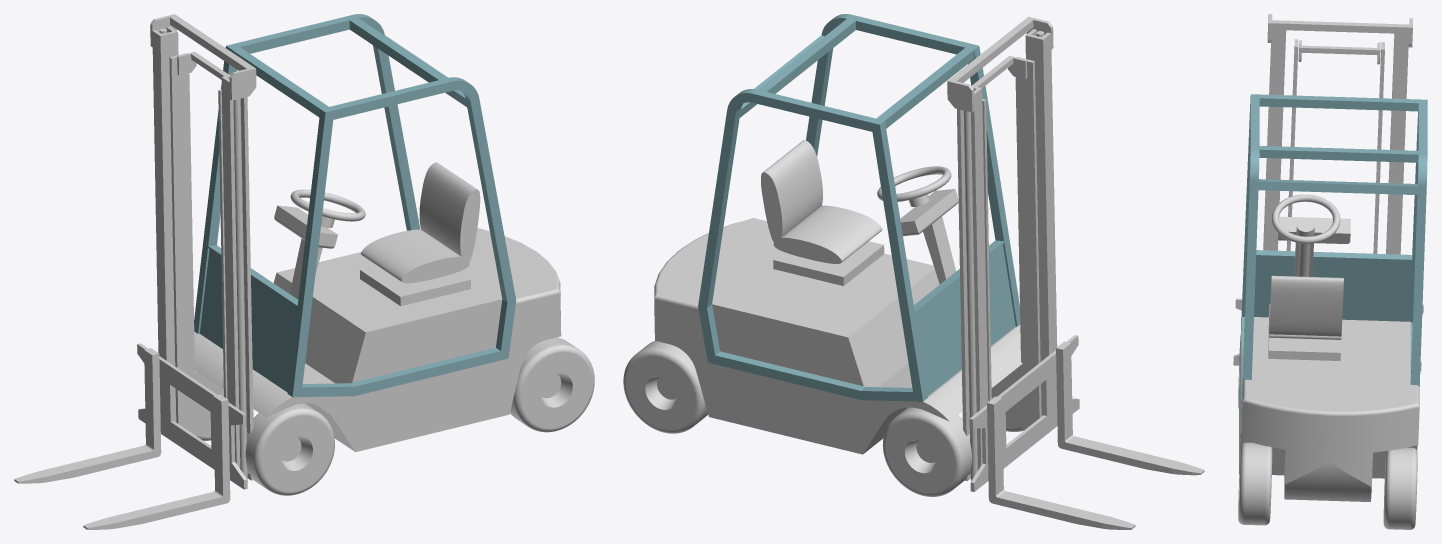
The model's file is Forklift.gltf.
The picture shows the model from 3 angles, left to right: view 1: azimuth 30°, elevation 25°; view 2: azimuth 150°, elevation 25°; view 3: azimuth 270°, elevation 25°; orthographic projection. The views are drawn at different scales.
Parts seen in each view (by area): view 1: Part38, Part46, Part32, Part14, Part12, Part8, Part30, Part22, Part34, Part2, Part4, Part10 (+9 smaller); view 2: Part38, Part46, Part32, Part48, Part8, Part12, Part26, Part18, Part34, Part2, Part4, Part44 (+9 smaller); view 3: Part38, Part46, Part32, Part36, Part8, Part12, Part22, Part18, Part44, Part50, Part40, Part42 (+3 smaller).
Part boxes in pixels (bbox=[...]): Part38: bbox=[193, 228, 561, 452]; Part46: bbox=[194, 14, 516, 397]; Part32: bbox=[361, 162, 480, 283]; Part14: bbox=[169, 53, 196, 435]; Part12: bbox=[221, 75, 254, 480]; Part8: bbox=[152, 26, 178, 421]; Part30: bbox=[245, 403, 334, 495]; Part22: bbox=[510, 337, 594, 432]; Part34: bbox=[137, 343, 247, 489]; Part2: bbox=[14, 348, 161, 483]; Part4: bbox=[83, 394, 230, 529]; Part10: bbox=[233, 98, 247, 478]; Part38: bbox=[654, 218, 1022, 454]; Part46: bbox=[698, 14, 1020, 401]; Part32: bbox=[761, 140, 882, 263]; Part48: bbox=[1015, 57, 1041, 430]; Part8: bbox=[957, 85, 988, 480]; Part12: bbox=[1025, 29, 1057, 415]; Part26: bbox=[882, 407, 971, 496]; Part18: bbox=[623, 341, 707, 433]; Part34: bbox=[969, 335, 1079, 491]; Part2: bbox=[987, 396, 1135, 529]; Part4: bbox=[1056, 341, 1204, 475]; Part44: bbox=[900, 189, 958, 284]; Part38: bbox=[1239, 317, 1419, 501]; Part46: bbox=[1241, 94, 1427, 419]; Part32: bbox=[1269, 275, 1343, 339]; Part36: bbox=[1242, 403, 1419, 437]; Part8: bbox=[1386, 33, 1408, 254]; Part12: bbox=[1263, 30, 1286, 250]; Part22: bbox=[1238, 442, 1272, 525]; Part18: bbox=[1383, 447, 1417, 529]; Part44: bbox=[1278, 216, 1350, 276]; Part50: bbox=[1267, 14, 1412, 47]; Part40: bbox=[1268, 320, 1340, 360]; Part42: bbox=[1271, 194, 1340, 243].
Bounding box in the file's own units: 2.82 × 2.32 × 1.07.
